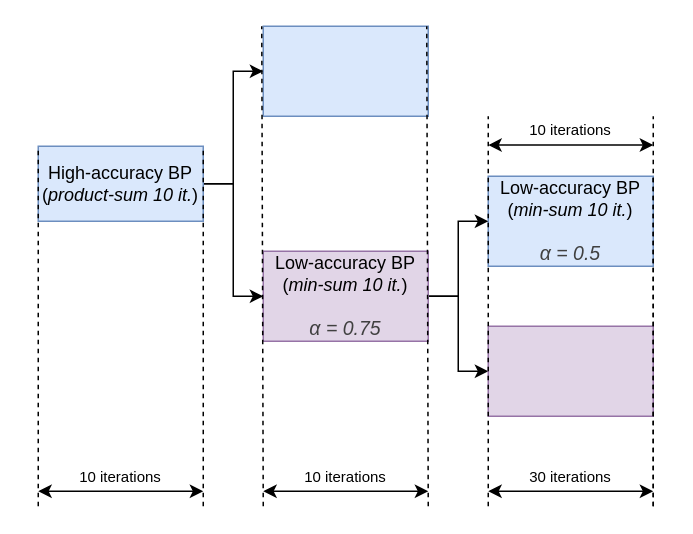
Image size: 693x534. Some labels were removed from this diagram. Here are the shapes that lost their labels. From the top down, the centre of each, then its label:
At [345,70]: "Low-accuracy BP ( min-sum 10 it. ) α = 0.9".
At [570,370]: "OTF + High- accuracy BP".
